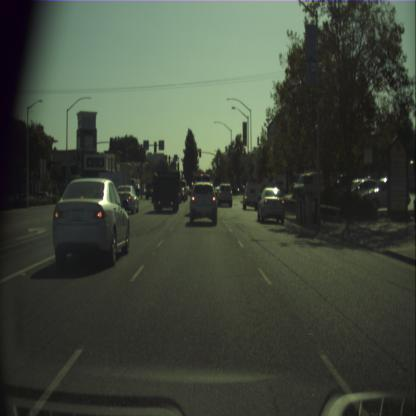Red: (198, 147, 202, 156), (231, 168, 233, 173)
